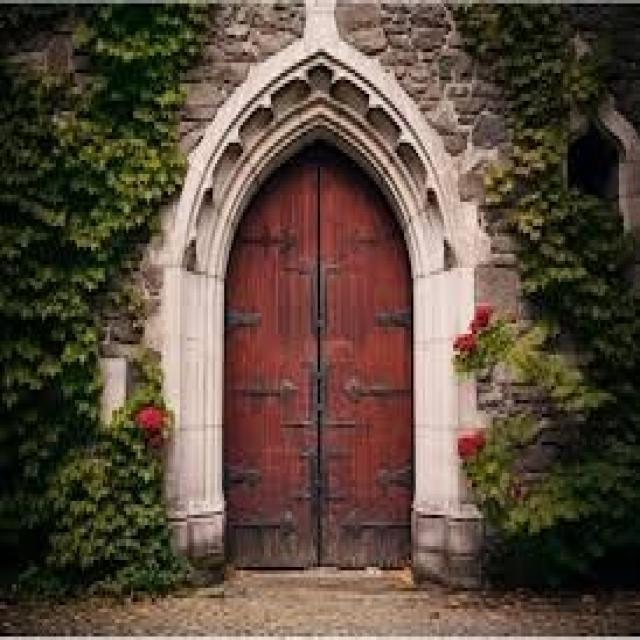door: (223, 146, 414, 571)
